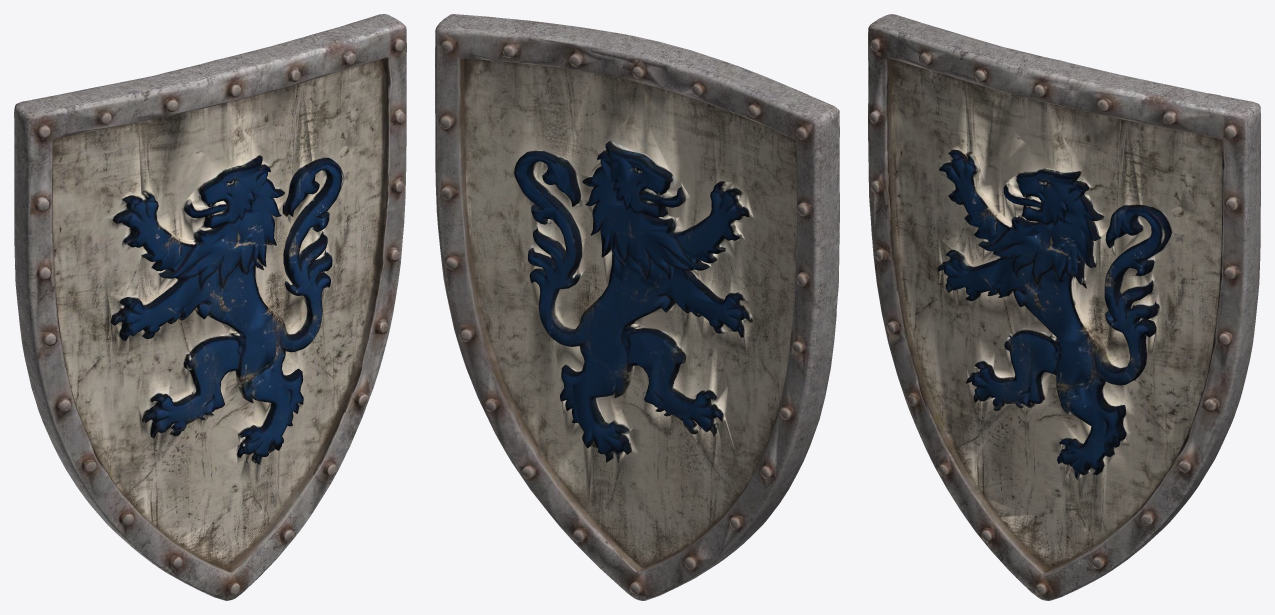
Rendered from shield-movil.glb.
3 views of the same model, side by side, from view 1: azimuth 30°, elevation 25°; view 2: azimuth 150°, elevation 25°; view 3: azimuth 330°, elevation 25° (orthographic). The views are drawn at different scales.
Visible parts, largest first — view 1: tripo_node_161017f1-e1aa-4f9a-8ba3-708ba42ae7f9; view 2: tripo_node_161017f1-e1aa-4f9a-8ba3-708ba42ae7f9; view 3: tripo_node_161017f1-e1aa-4f9a-8ba3-708ba42ae7f9.
Part boxes in pixels (x1=…): tripo_node_161017f1-e1aa-4f9a-8ba3-708ba42ae7f9: x1=14, y1=14, x2=406, y2=600; tripo_node_161017f1-e1aa-4f9a-8ba3-708ba42ae7f9: x1=435, y1=14, x2=839, y2=600; tripo_node_161017f1-e1aa-4f9a-8ba3-708ba42ae7f9: x1=868, y1=14, x2=1260, y2=600.
Bounding box in the file's own units: 0.7355 × 0.9807 × 0.1368.
1 material, 1 textured.
